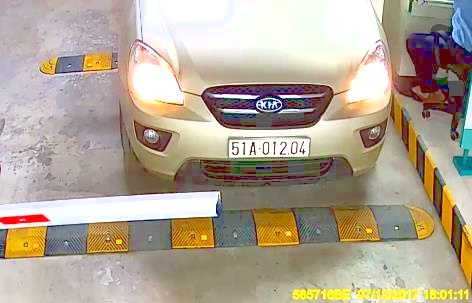plate: (227, 133, 315, 163)
